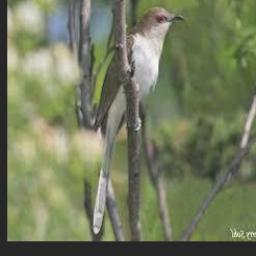Cuckoo: (92, 6, 185, 236)
